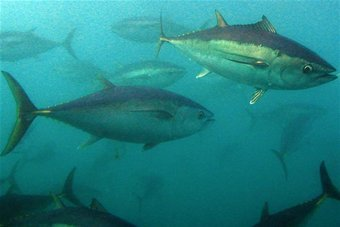Bluefina Tuna: (7, 11, 338, 153)
